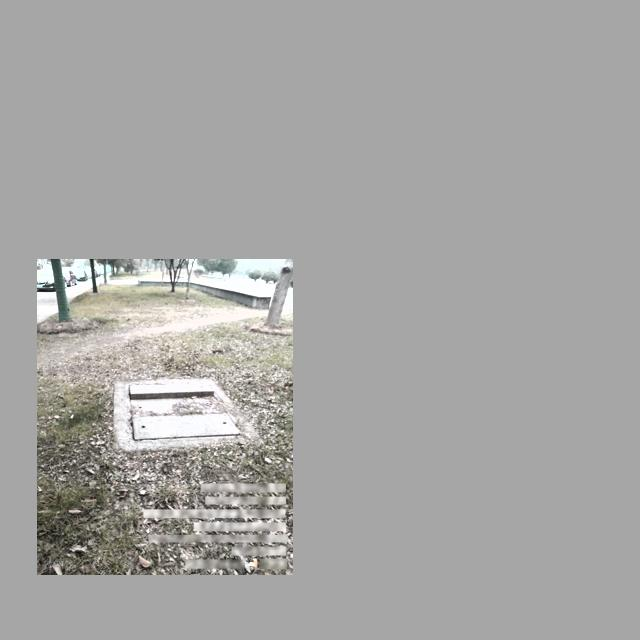uncovered: (126, 380, 243, 439)
